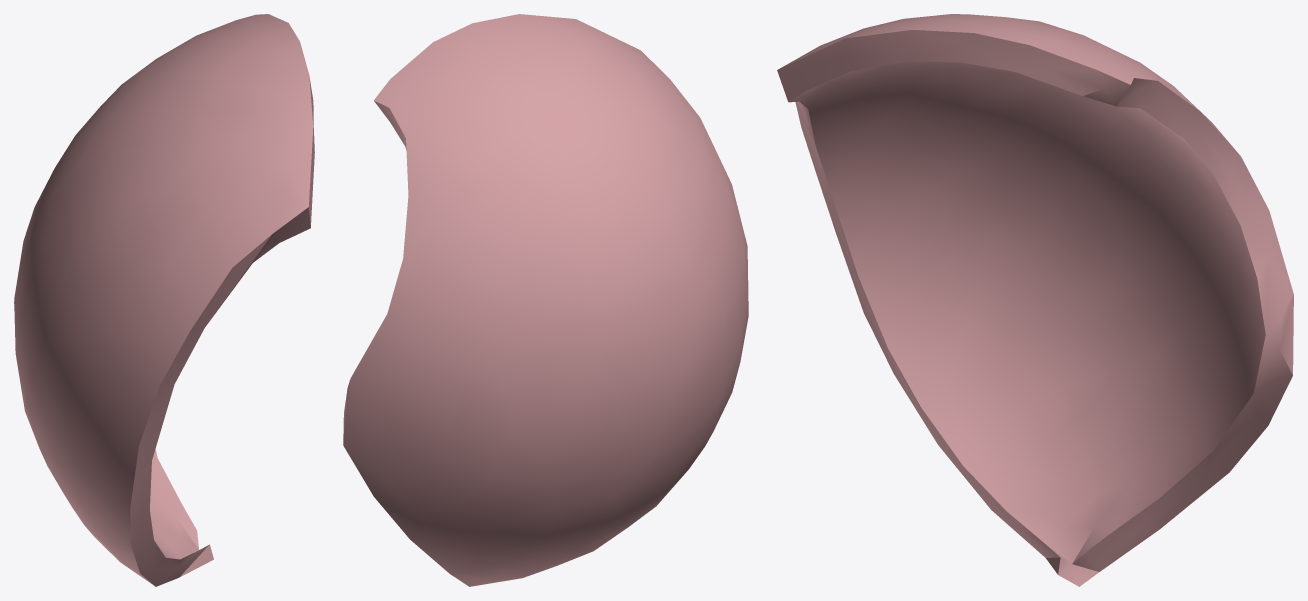
File: fma59768_mm2118.glb
3 views of the same model, side by side, from view 1: azimuth 30°, elevation 25°; view 2: azimuth 150°, elevation 25°; view 3: azimuth 270°, elevation 25° (orthographic). The views are drawn at different scales.
Visible parts, largest first — view 1: FMA59768_MM2118; view 2: FMA59768_MM2118; view 3: FMA59768_MM2118.
Boxes of the visible parts, x1=… form: FMA59768_MM2118: x1=14, y1=14, x2=314, y2=586; FMA59768_MM2118: x1=343, y1=14, x2=748, y2=586; FMA59768_MM2118: x1=777, y1=14, x2=1293, y2=586.
Size of the model in its own units: 0.00691 by 0.013 by 0.0105.
